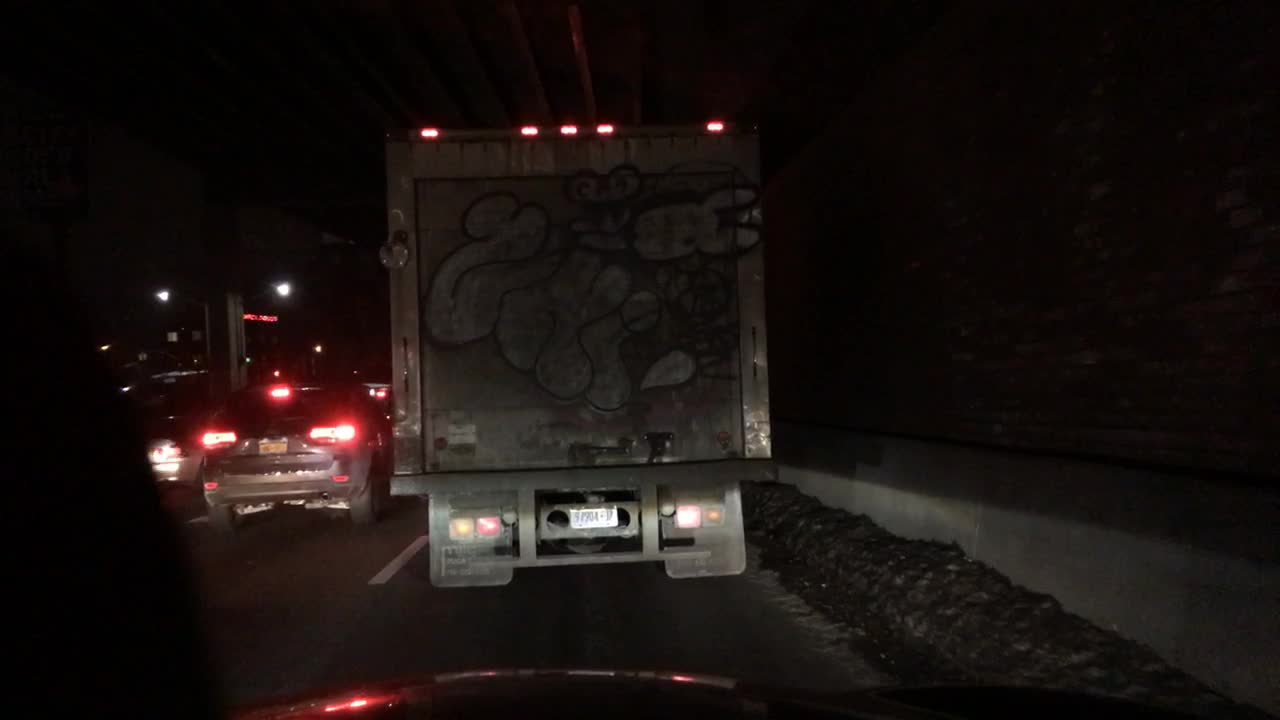car: (199, 370, 391, 535), (134, 368, 204, 480), (367, 385, 390, 402)
truck: (378, 116, 776, 594)
